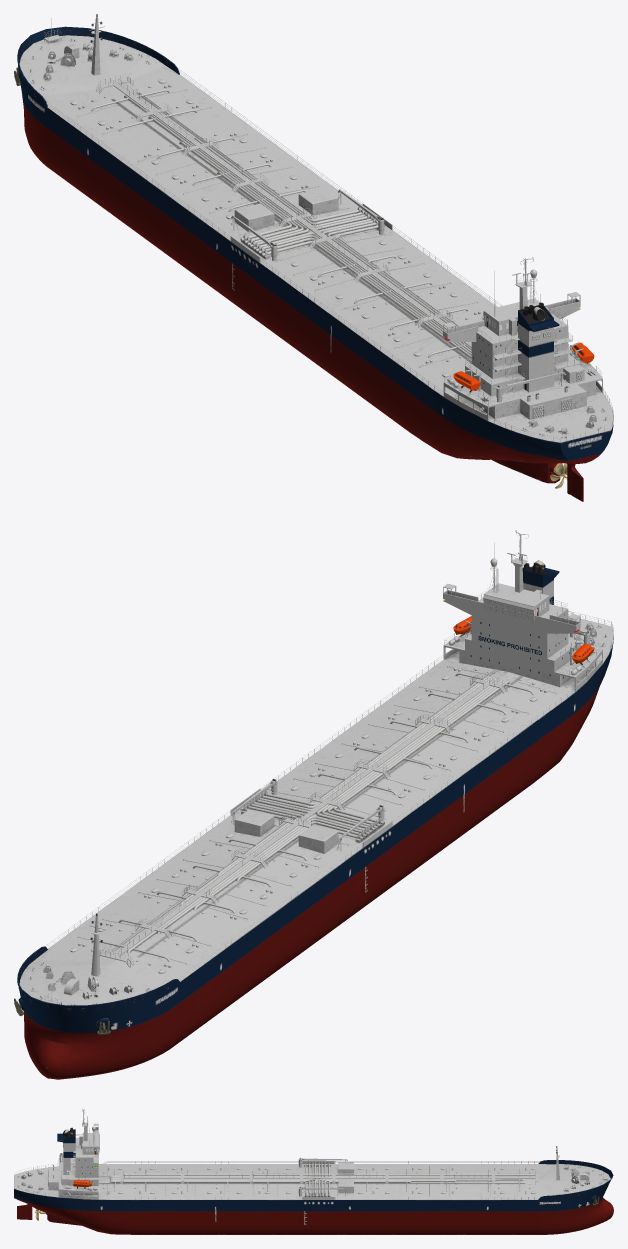
File: panama-tanker-origin-at-transponder.glb
The picture shows the model from 3 angles, top to bottom: view 1: azimuth 30°, elevation 25°; view 2: azimuth 150°, elevation 25°; view 3: azimuth 270°, elevation 25°; orthographic projection. The views are drawn at different scales.
Parts seen in each view (by area): view 1: Panamax_oil_tanker_03_geo, Panamax_oil_tanker_01_geo, Panamax_oil_tanker_02_geo, Panamax_oil_tanker_05_geo, Panamax_oil_tanker_08_geo, Panamax_oil_tanker_04_geo, Panamax_oil_tanker_06_geo; view 2: Panamax_oil_tanker_03_geo, Panamax_oil_tanker_01_geo, Panamax_oil_tanker_02_geo, Panamax_oil_tanker_05_geo, Panamax_oil_tanker_08_geo, Panamax_oil_tanker_04_geo, Panamax_oil_tanker_06_geo; view 3: Panamax_oil_tanker_01_geo, Panamax_oil_tanker_03_geo, Panamax_oil_tanker_02_geo, Panamax_oil_tanker_05_geo, Panamax_oil_tanker_08_geo, Panamax_oil_tanker_04_geo, Panamax_oil_tanker_06_geo.
Boxes of the visible parts, x1,y1,x2,y2 form: Panamax_oil_tanker_03_geo: (17, 26, 613, 442); Panamax_oil_tanker_01_geo: (14, 30, 613, 501); Panamax_oil_tanker_02_geo: (70, 14, 483, 377); Panamax_oil_tanker_05_geo: (443, 257, 602, 420); Panamax_oil_tanker_08_geo: (44, 18, 613, 442); Panamax_oil_tanker_04_geo: (28, 35, 607, 438); Panamax_oil_tanker_06_geo: (231, 189, 566, 402); Panamax_oil_tanker_03_geo: (17, 618, 613, 1005); Panamax_oil_tanker_01_geo: (14, 641, 613, 1079); Panamax_oil_tanker_02_geo: (70, 666, 556, 976); Panamax_oil_tanker_05_geo: (443, 530, 602, 691); Panamax_oil_tanker_08_geo: (44, 585, 613, 1003); Panamax_oil_tanker_04_geo: (28, 623, 607, 1005); Panamax_oil_tanker_06_geo: (231, 631, 589, 850); Panamax_oil_tanker_01_geo: (14, 1161, 613, 1234); Panamax_oil_tanker_03_geo: (14, 1160, 613, 1199); Panamax_oil_tanker_02_geo: (98, 1146, 559, 1199); Panamax_oil_tanker_05_geo: (48, 1108, 99, 1199); Panamax_oil_tanker_08_geo: (21, 1134, 603, 1199); Panamax_oil_tanker_04_geo: (17, 1165, 607, 1194); Panamax_oil_tanker_06_geo: (59, 1153, 347, 1196).
Bounding box in the file's own units: 32.08 × 46.45 × 225.
8 materials, 7 textured.
